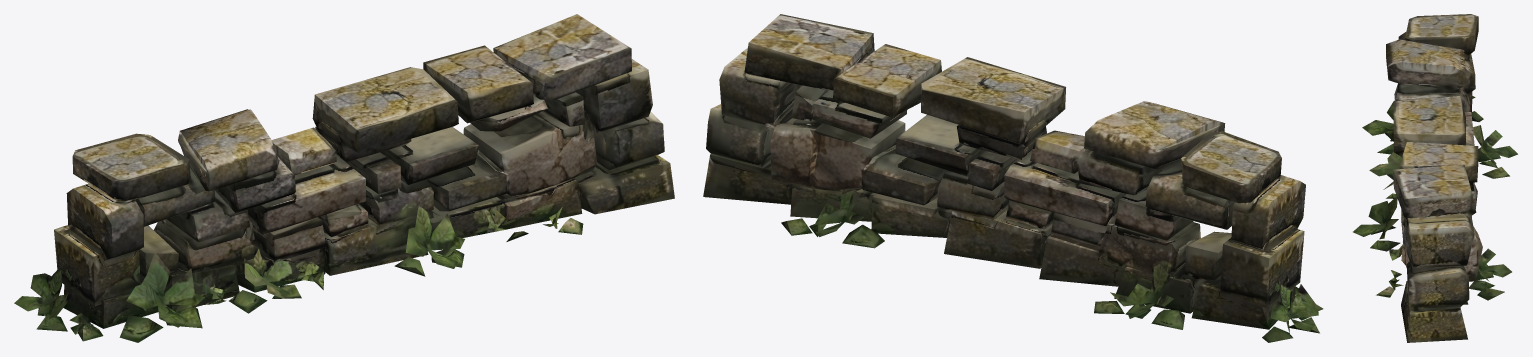
Rendered from act1_kit_v1_drystone_wall.glb.
The picture shows the model from 3 angles, left to right: view 1: azimuth 30°, elevation 25°; view 2: azimuth 150°, elevation 25°; view 3: azimuth 270°, elevation 25°; orthographic projection. The views are drawn at different scales.
Visible parts, largest first — view 1: A08_2_drystone_wall; view 2: A08_2_drystone_wall; view 3: A08_2_drystone_wall.
Part boxes in pixels (left/top/right/bottom): A08_2_drystone_wall: left=14, top=14, right=674, bottom=342; A08_2_drystone_wall: left=703, top=14, right=1323, bottom=342; A08_2_drystone_wall: left=1353, top=14, right=1517, bottom=342.
Size of the model in its own units: 1 by 0.2594 by 0.2986.
Materials: 1 (1 with a texture image).
